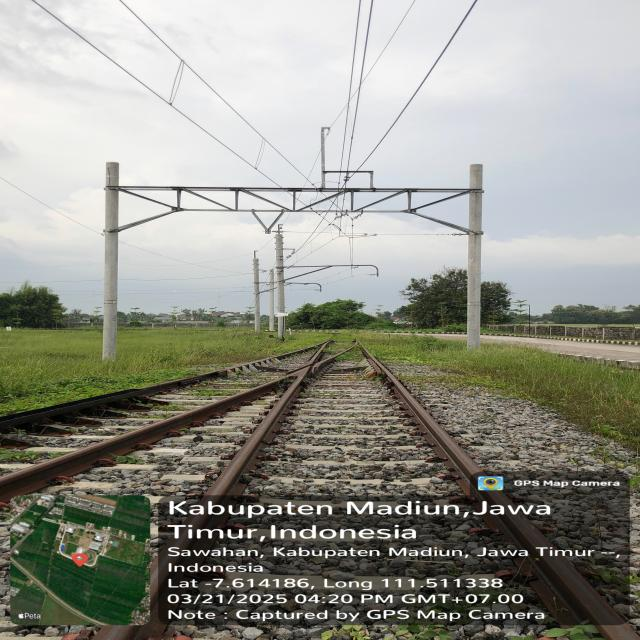rail-detection: (363, 346, 640, 640), (0, 380, 279, 501), (0, 368, 235, 429), (206, 366, 309, 496), (455, 462, 459, 466)
